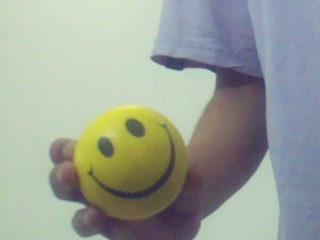ball: (74, 105, 187, 220)
